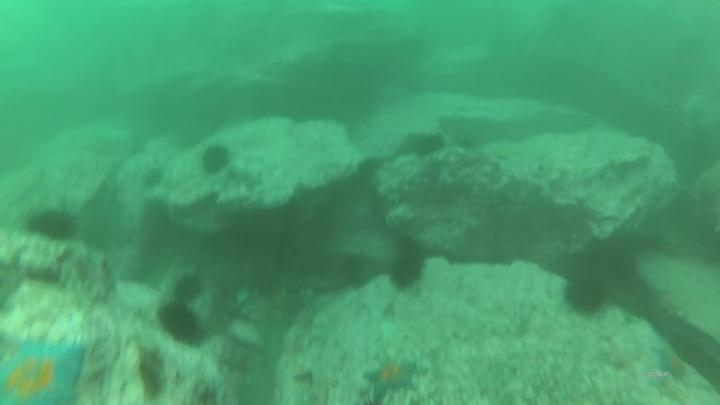echinus: (564, 275, 606, 313), (30, 211, 75, 243), (161, 307, 198, 344), (345, 256, 378, 283), (394, 260, 421, 289), (413, 136, 443, 157), (204, 149, 230, 170), (175, 282, 199, 299), (142, 170, 163, 184)
starfish: (5, 338, 83, 405), (366, 356, 415, 395), (655, 343, 687, 378)
